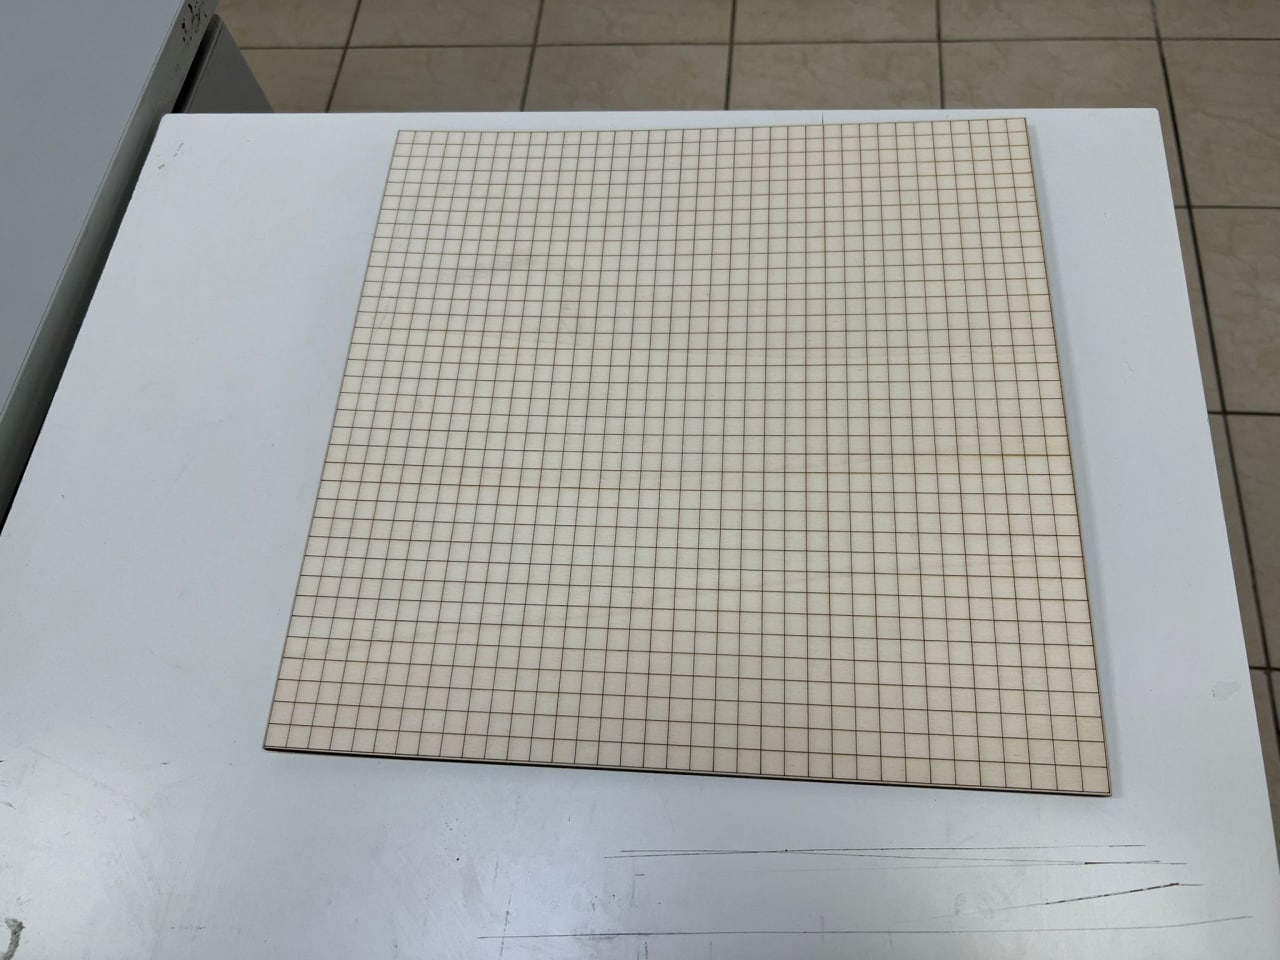grid: (264, 119, 1114, 810)
